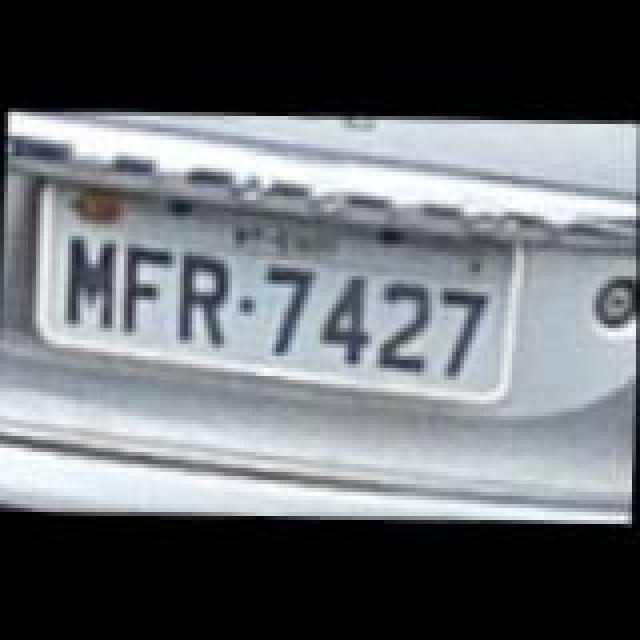2: (366, 280, 446, 376)
4: (314, 274, 386, 370)
7: (426, 282, 506, 382), (248, 258, 324, 354)
F: (110, 238, 182, 338)
M: (52, 230, 132, 334)
R: (164, 248, 240, 348)
